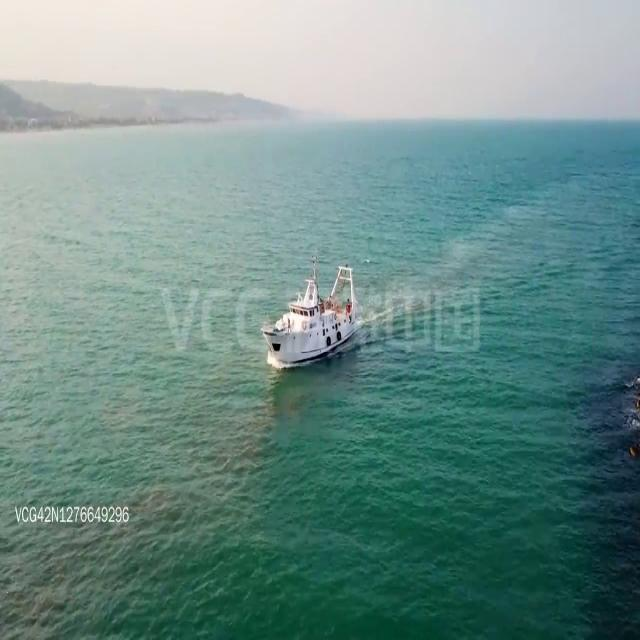houseboat: (263, 257, 364, 375)
